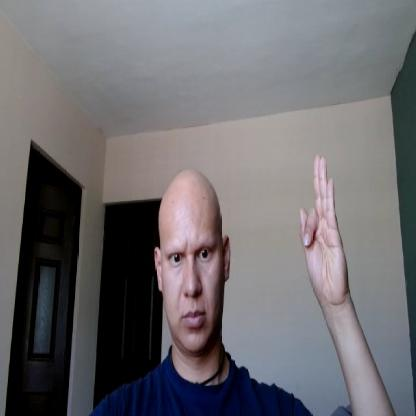F: (298, 152, 348, 300)
